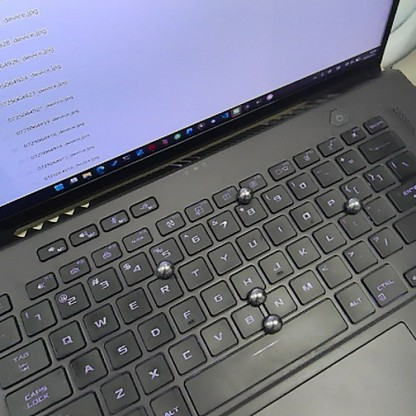ironball: (243, 284, 269, 309), (260, 312, 283, 337), (152, 259, 175, 279), (233, 184, 253, 205), (343, 195, 362, 215)
